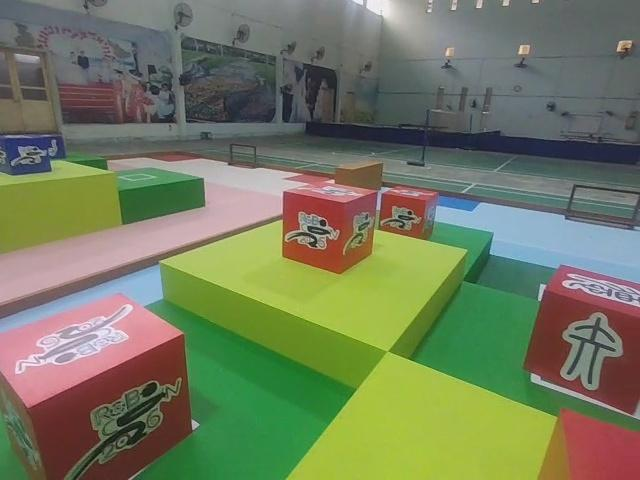R1: (3, 293, 194, 480), (282, 182, 379, 274), (376, 183, 440, 241)
R2 Fake: (522, 263, 640, 416)
